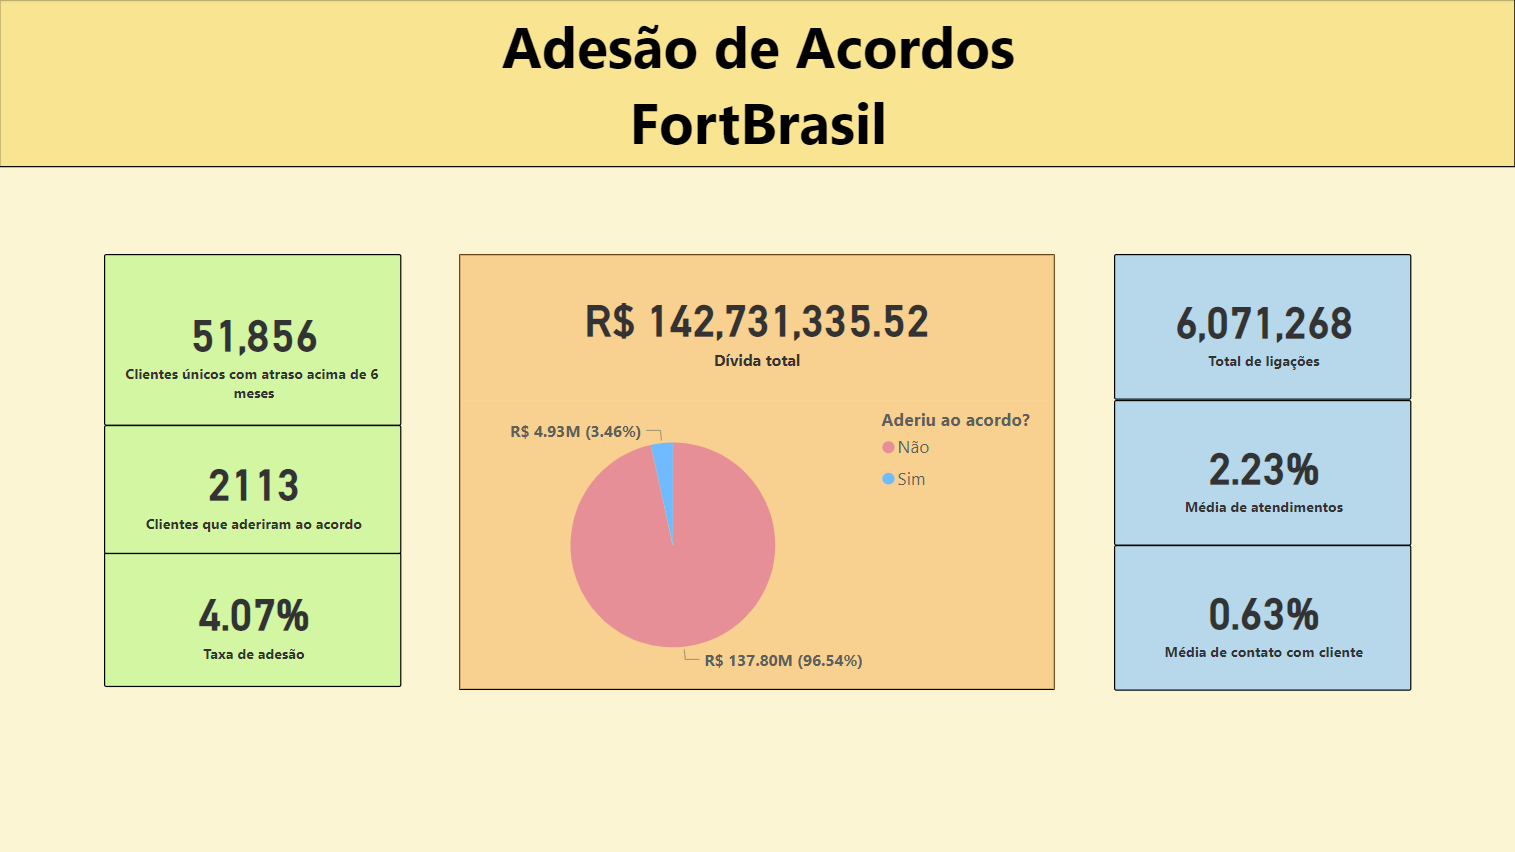

What the dashboard file says about the page in this screenshot:
{"tool":"powerbi","page":{"name":"Visão Geral","canvas":[1280,720],"ordinal":0},"visuals":[{"type":"textbox","box":[0,0,1280,142.3],"z":0},{"type":"card","fields":{"Values":["Sum(Q2_DividaFinal.DIVIDA_FINAL)"]},"box":[388.3,215.4,503.5,123.7],"z":0,"group":"g1"},{"type":"pieChart","fields":{"Y":["Sum(Q2_BaseCompleta.DIVIDA_FINAL)"],"Category":["Q2_BaseCompleta.RESPOSTA_SN"]},"box":[388.3,339.1,503.5,243.2],"z":1000,"group":"g1"},{"type":"card","title":"Taxa de adesão","fields":{"Values":["Q2_DividaFinal.PERC_ADESAO"]},"box":[88.6,467.1,250.8,113.7],"z":1000},{"type":"card","title":"Taxa de adesão","fields":{"Values":["Sum(Q2_DividaFinal.RESPOSTA)"]},"box":[88.6,359.9,250.8,109.1],"z":2000},{"type":"card","title":"Taxa de adesão","fields":{"Values":["CountNonNull(Q2_DividaFinal.RESPOSTA)"]},"box":[88.6,215.4,250.8,144.5],"z":3000},{"type":"card","fields":{"Values":["Sum(Q2_DividaFinal.QTD_ACIONAMENTO)"]},"box":[940.9,215.5,250.7,122.7],"z":4000},{"type":"card","fields":{"Values":["Avg(Q2_DividaFinal.PERC_CONTATO)"]},"box":[940.9,338.1,250.7,122.7],"z":5000},{"type":"card","fields":{"Values":["Avg(Q2_DividaFinal.PERC_CPC)"]},"box":[940.9,460.8,250.7,122.7],"z":6000},{"type":"shape","box":[388.3,215.5,503.5,368],"z":7000},{"type":"group","id":"g1","title":"Group 1","box":[388.3,215.4,503.5,366.9],"z":8000}]}

Visuals, with their boxes in screenshot pixels (x1, y1, x2, y2), scaled from the page's 1280x720 canvas onto the 1515x852 screenshot:
textbox: x1=0 y1=0 x2=1514 y2=168
card - Sum(Q2_DividaFinal.DIVIDA_FINAL): x1=460 y1=255 x2=1056 y2=401
pieChart - Sum(Q2_BaseCompleta.DIVIDA_FINAL) x Q2_BaseCompleta.RESPOSTA_SN: x1=460 y1=401 x2=1056 y2=689
"Taxa de adesão" card: x1=105 y1=553 x2=402 y2=687
"Taxa de adesão" card: x1=105 y1=426 x2=402 y2=555
"Taxa de adesão" card: x1=105 y1=255 x2=402 y2=426
card - Sum(Q2_DividaFinal.QTD_ACIONAMENTO): x1=1114 y1=255 x2=1410 y2=400
card - Avg(Q2_DividaFinal.PERC_CONTATO): x1=1114 y1=400 x2=1410 y2=545
card - Avg(Q2_DividaFinal.PERC_CPC): x1=1114 y1=545 x2=1410 y2=690
shape: x1=460 y1=255 x2=1056 y2=690
"Group 1" group: x1=460 y1=255 x2=1056 y2=689
